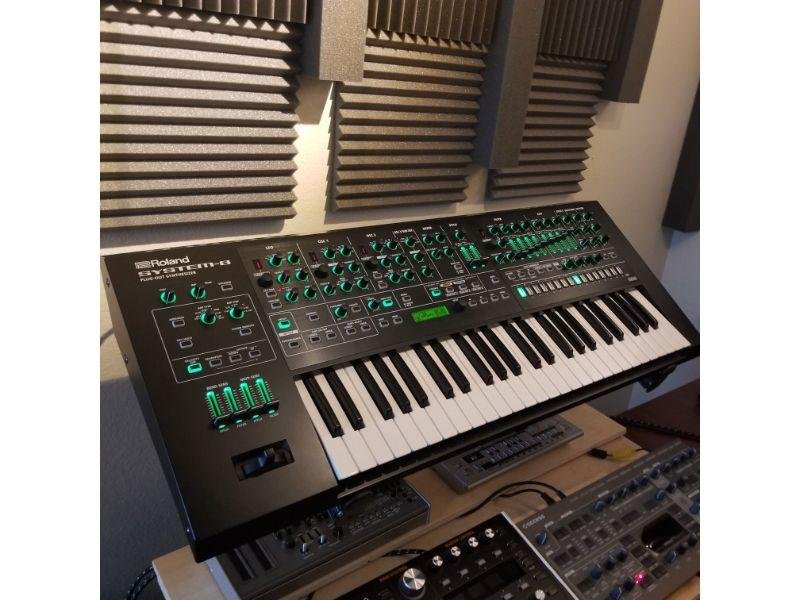synthesizer: (109, 197, 684, 513)
